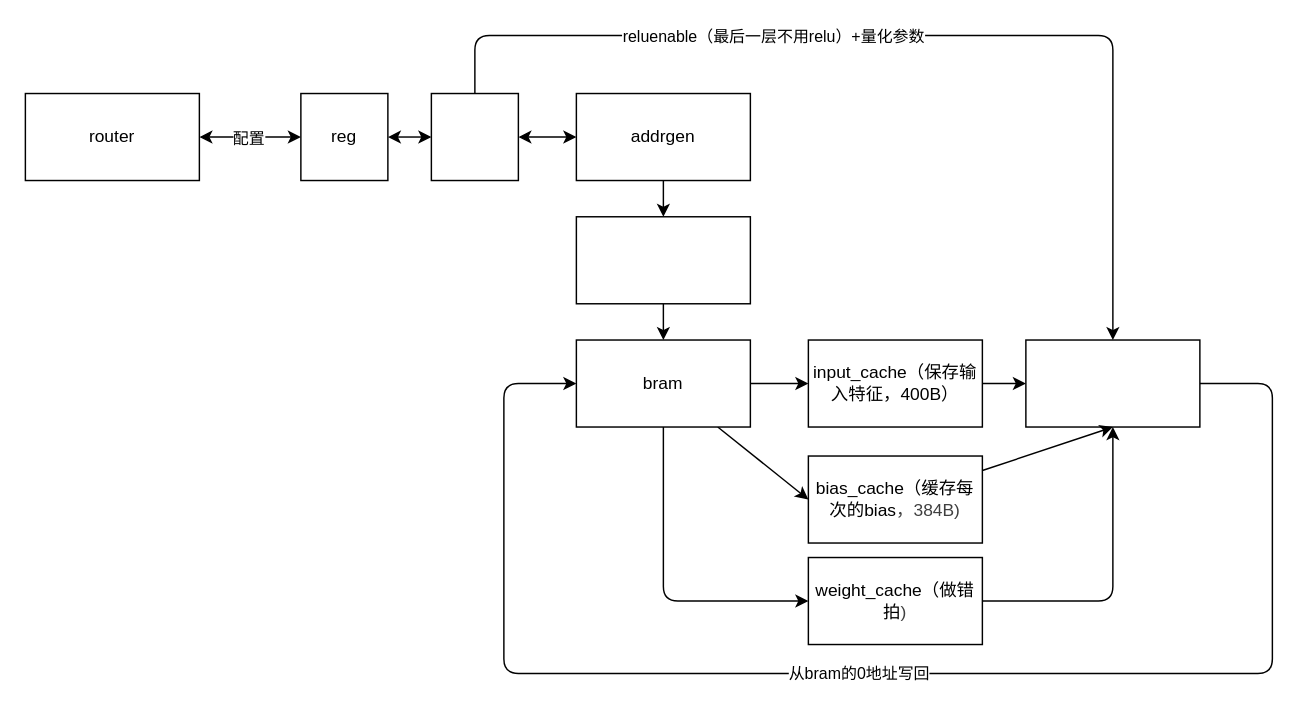
Some shapes in this 1309 by 711 pixel diagram are drawn without their labels. The centre of each missing label's shape, as x and y in pixels:
"ctrl" goes at [474,136].
"仲裁" goes at [662,259].
"计算（一直到量化,打包完成），流水线" goes at [1112,383].
